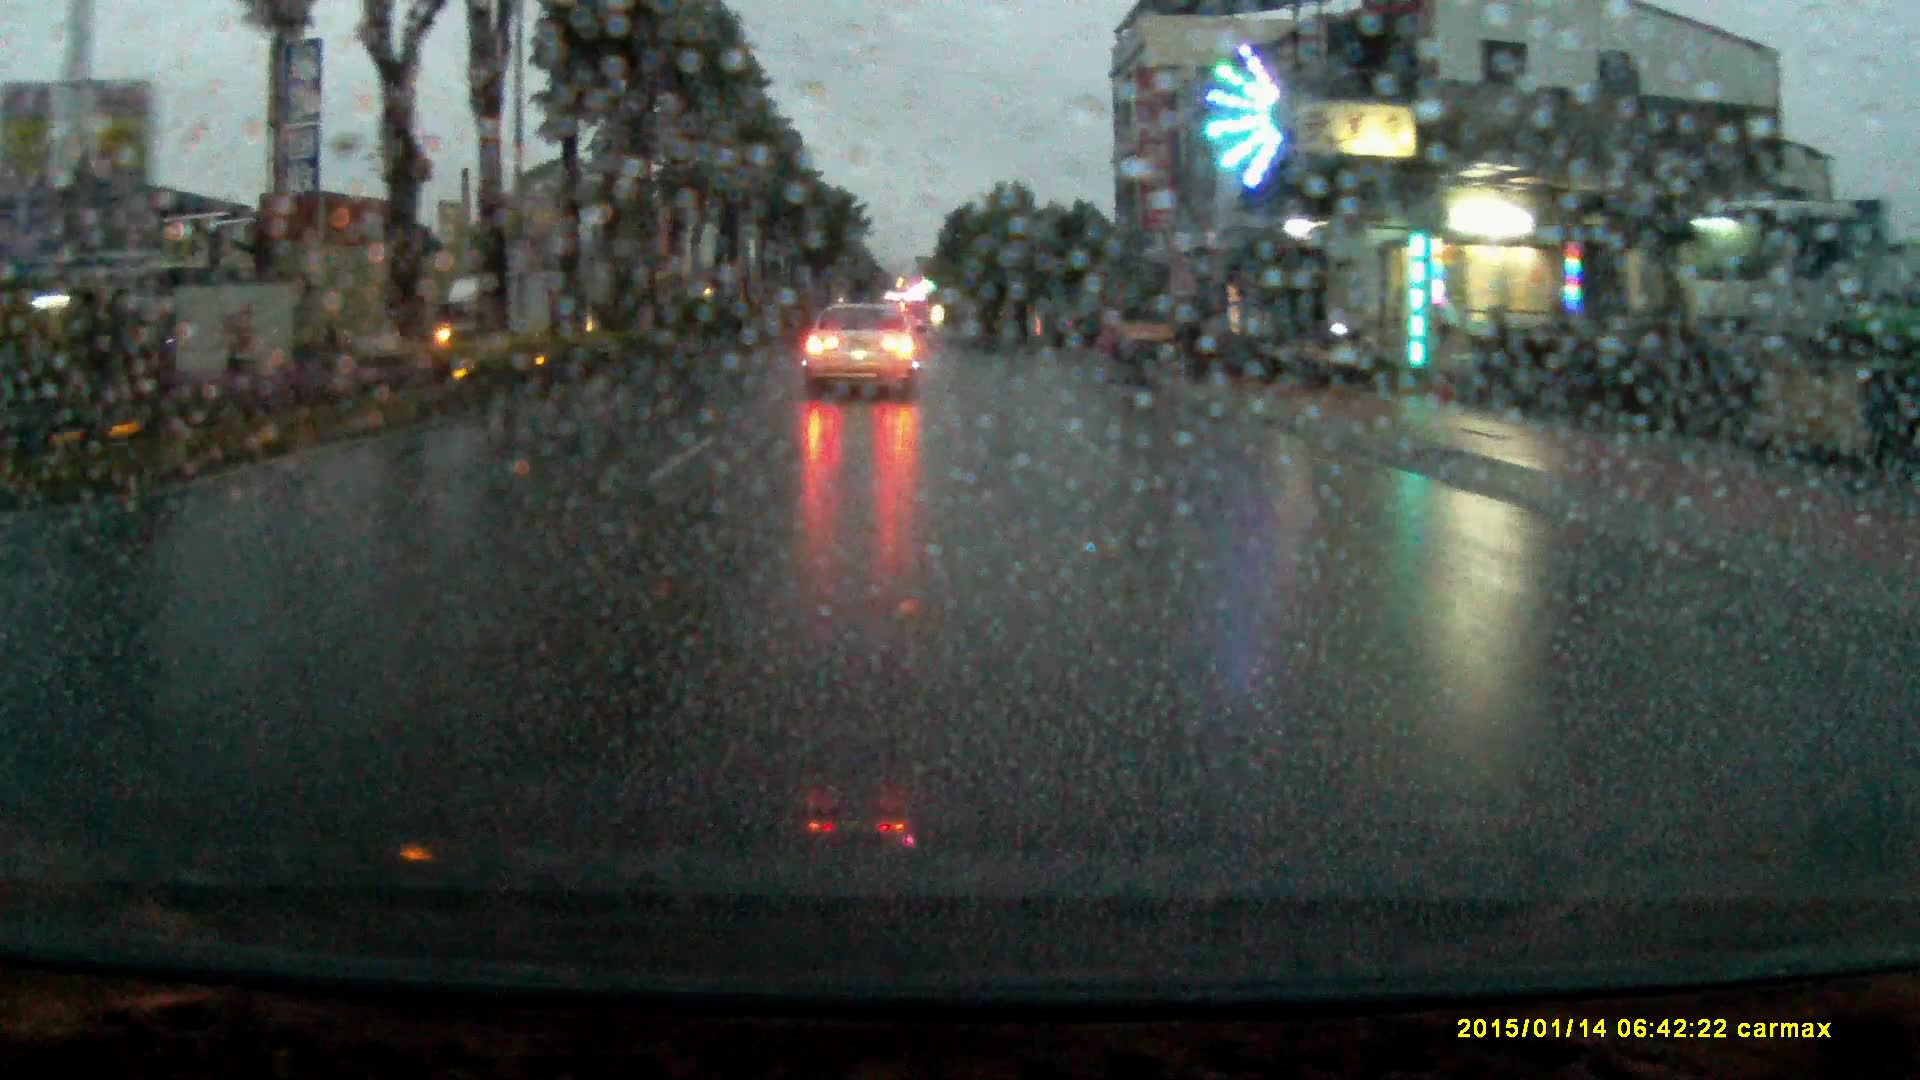vehicle: (1669, 203, 1878, 396), (803, 305, 918, 409), (438, 266, 551, 353), (1036, 309, 1101, 360)
